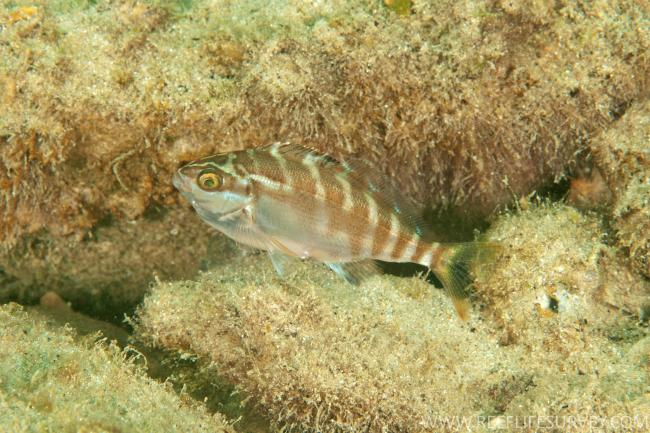fish: (173, 141, 503, 323)
